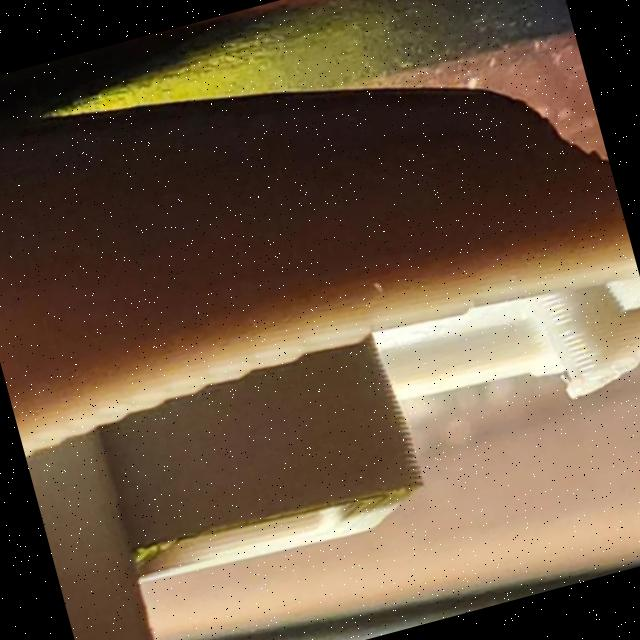cracks: (26, 41, 533, 158)
